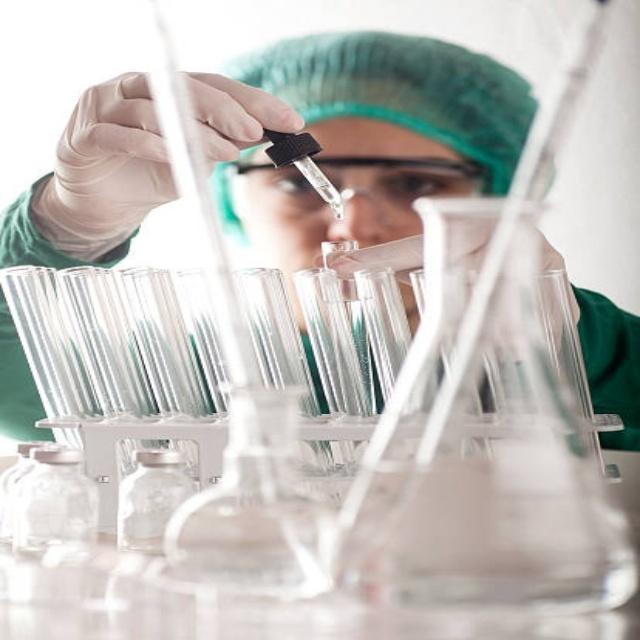Gafas: (233, 155, 487, 212)
Guantes: (39, 69, 303, 258)
